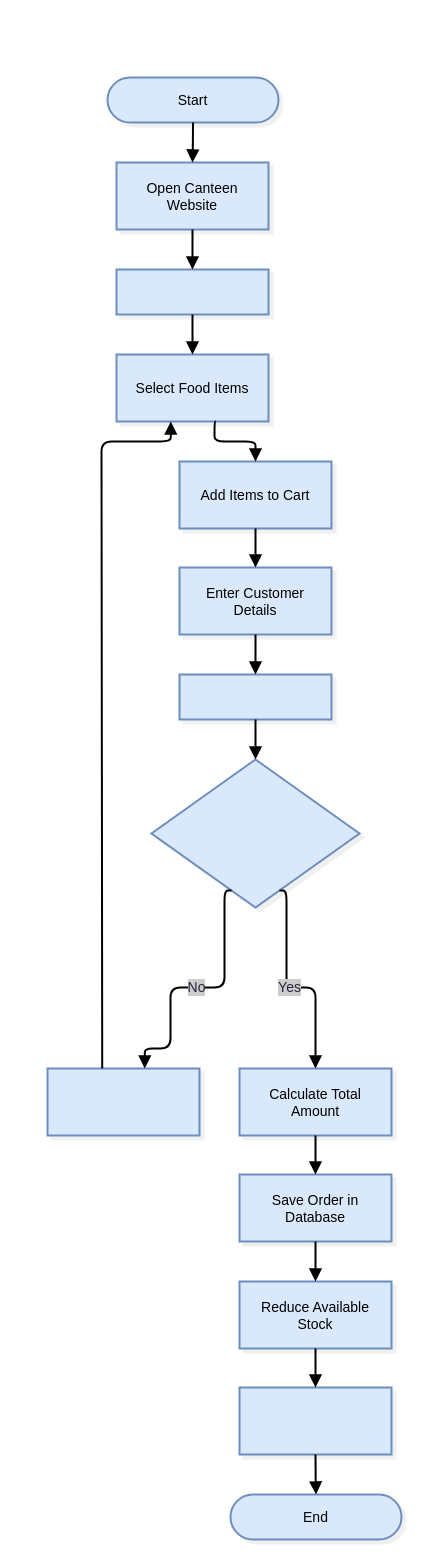
Some shapes in this 423 by 1561 pixel diagram are drawn without their labels. Each missing label, with the centre of its shape:
"Display Order Confirmation" belongs at (x=317, y=1422).
"Place Order" belongs at (x=257, y=698).
"Show Out of Stock Message" belongs at (x=125, y=1103).
"Stock Available?" belongs at (x=257, y=835).
"View Menu" belongs at (x=194, y=293).
